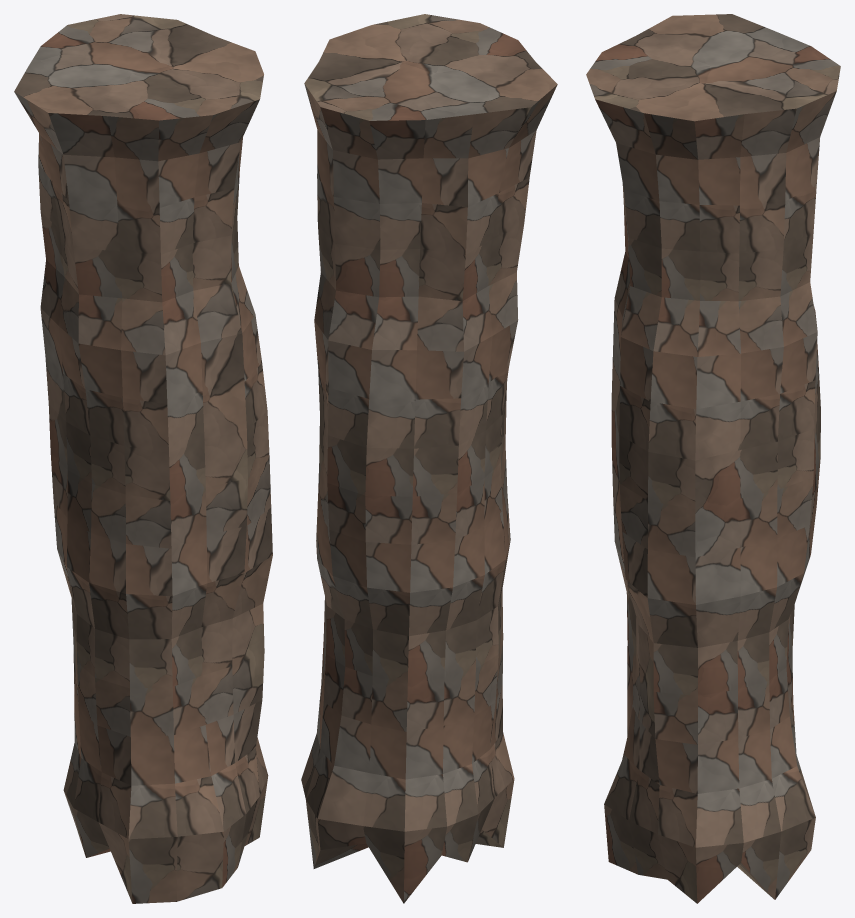
File: CanyonBeam_StubB.gltf
3 renders of one model, left to right at view 1: azimuth 30°, elevation 25°; view 2: azimuth 150°, elevation 25°; view 3: azimuth 270°, elevation 25°, orthographic.
Visible parts, largest first — view 1: CanyonBeam_StubB; view 2: CanyonBeam_StubB; view 3: CanyonBeam_StubB.
Boxes of the visible parts, bbox=[...] form: CanyonBeam_StubB: bbox=[14, 14, 272, 903]; CanyonBeam_StubB: bbox=[301, 14, 557, 903]; CanyonBeam_StubB: bbox=[586, 14, 840, 903].
Size of the model in its own units: 10.17 by 33.22 by 9.62.
1 material, 1 textured.
